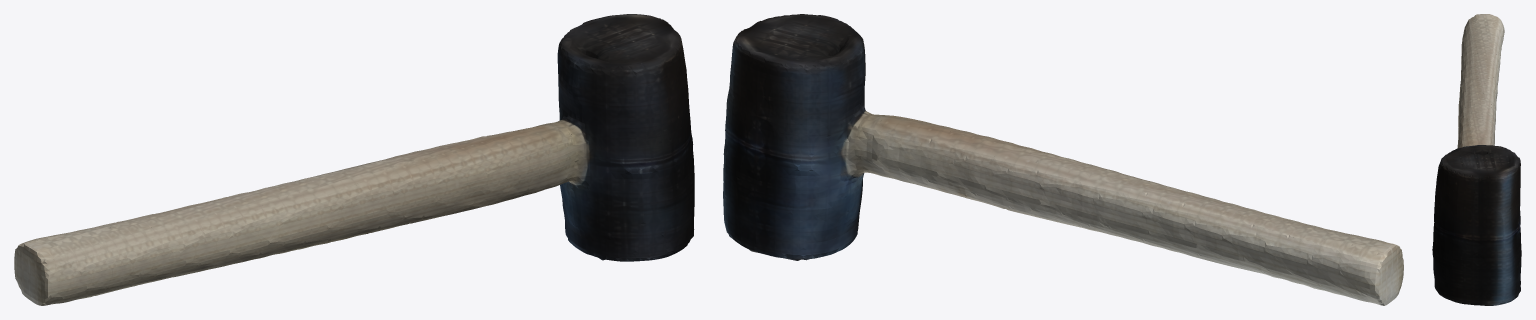
The model's file is mallet.obj.
3 renders of one model, left to right at view 1: azimuth 30°, elevation 25°; view 2: azimuth 150°, elevation 25°; view 3: azimuth 270°, elevation 25°, orthographic. The views are drawn at different scales.
Size of the model in its own units: 0.2972 by 0.0869 by 0.0536.
1 material, 1 textured.
